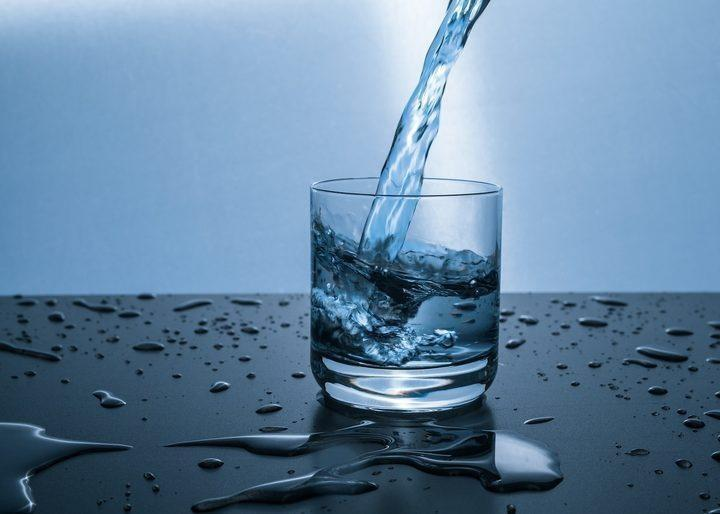glass-normal: (306, 173, 505, 413)
